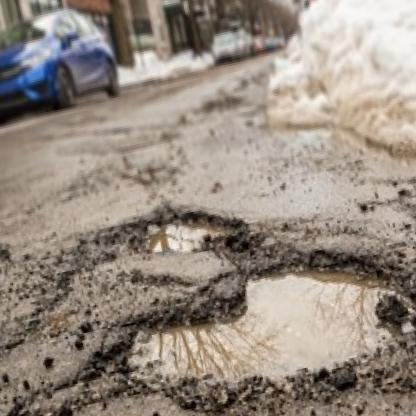pothole: (111, 223, 416, 416), (128, 199, 249, 263)
